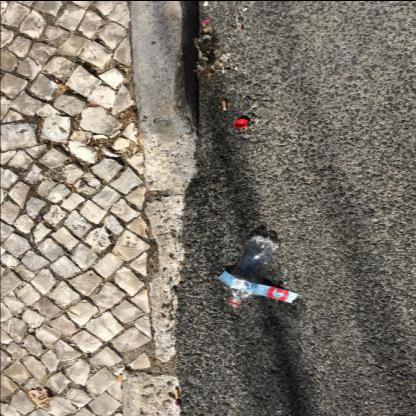Bottle: (233, 118, 247, 128)
Bottle cap: (226, 234, 278, 306)
Cigarette: (86, 134, 92, 144), (222, 100, 226, 110), (175, 389, 179, 398), (119, 374, 122, 383)
Paper: (219, 269, 299, 302)
